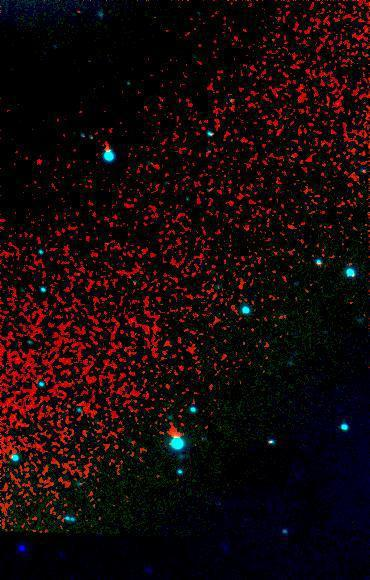star: (158, 421, 188, 451)
